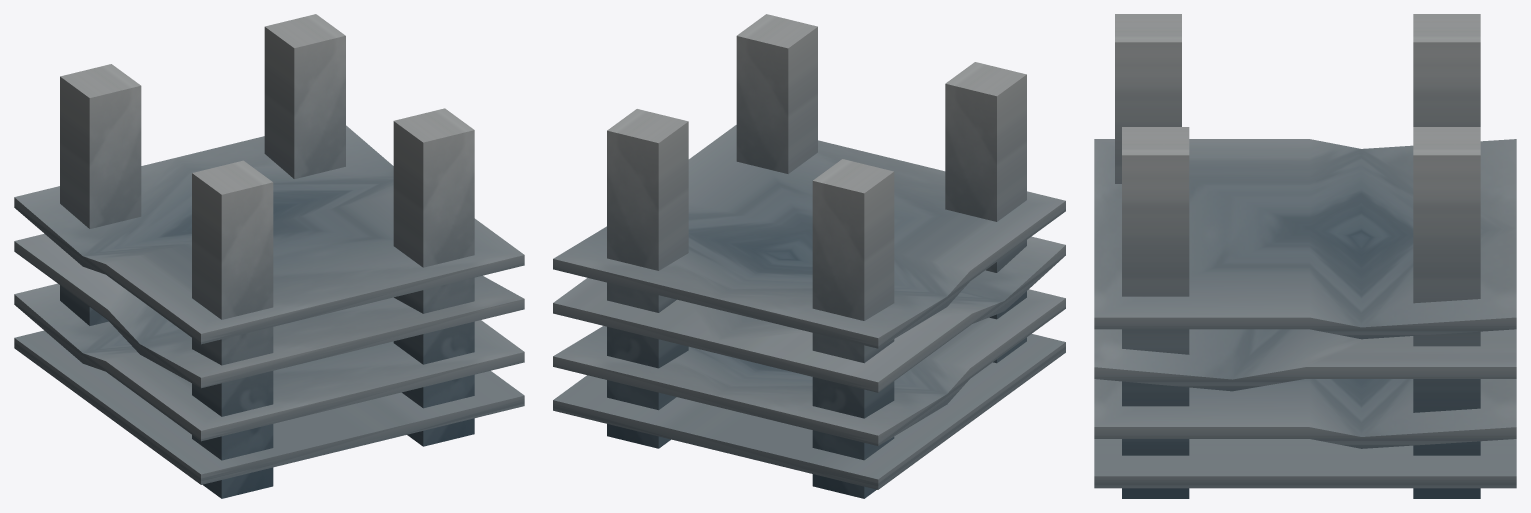
File: Constructions.fbx
3 renders of one model, left to right at view 1: azimuth 30°, elevation 25°; view 2: azimuth 150°, elevation 25°; view 3: azimuth 270°, elevation 25°, orthographic. The views are drawn at different scales.
Visible parts, largest first — view 1: pCube25; view 2: pCube25; view 3: pCube25.
Boxes of the visible parts, bbox=[...] form: pCube25: bbox=[14, 14, 524, 498]; pCube25: bbox=[553, 14, 1065, 498]; pCube25: bbox=[1094, 14, 1516, 498].
Size of the model in its own units: 2569 by 2307 by 2569.
